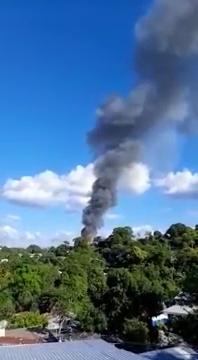smoke: (140, 6, 195, 83), (100, 102, 131, 178)
